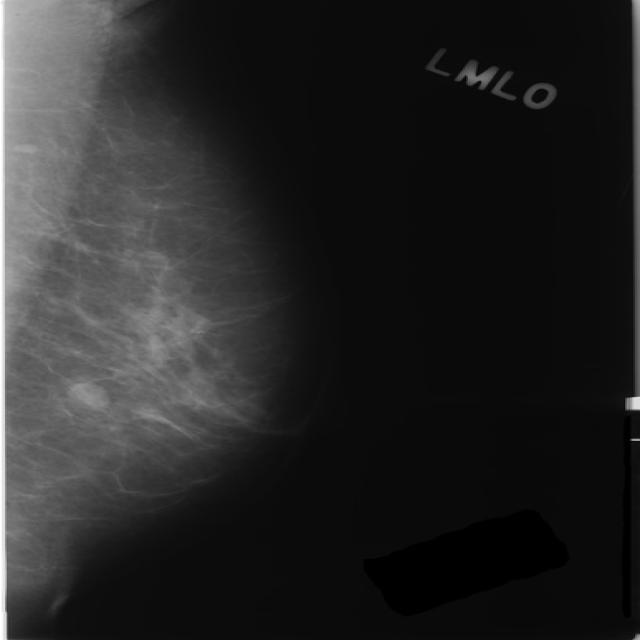tumour: (68, 380, 107, 410)
